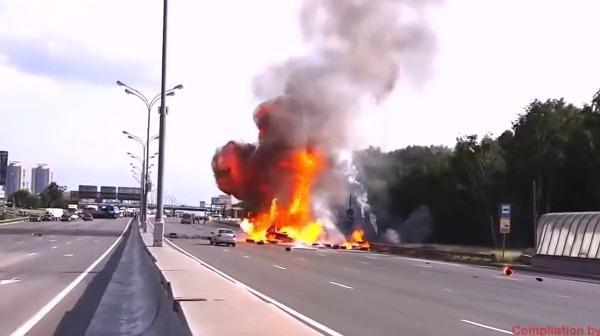fire: (216, 100, 375, 251)
